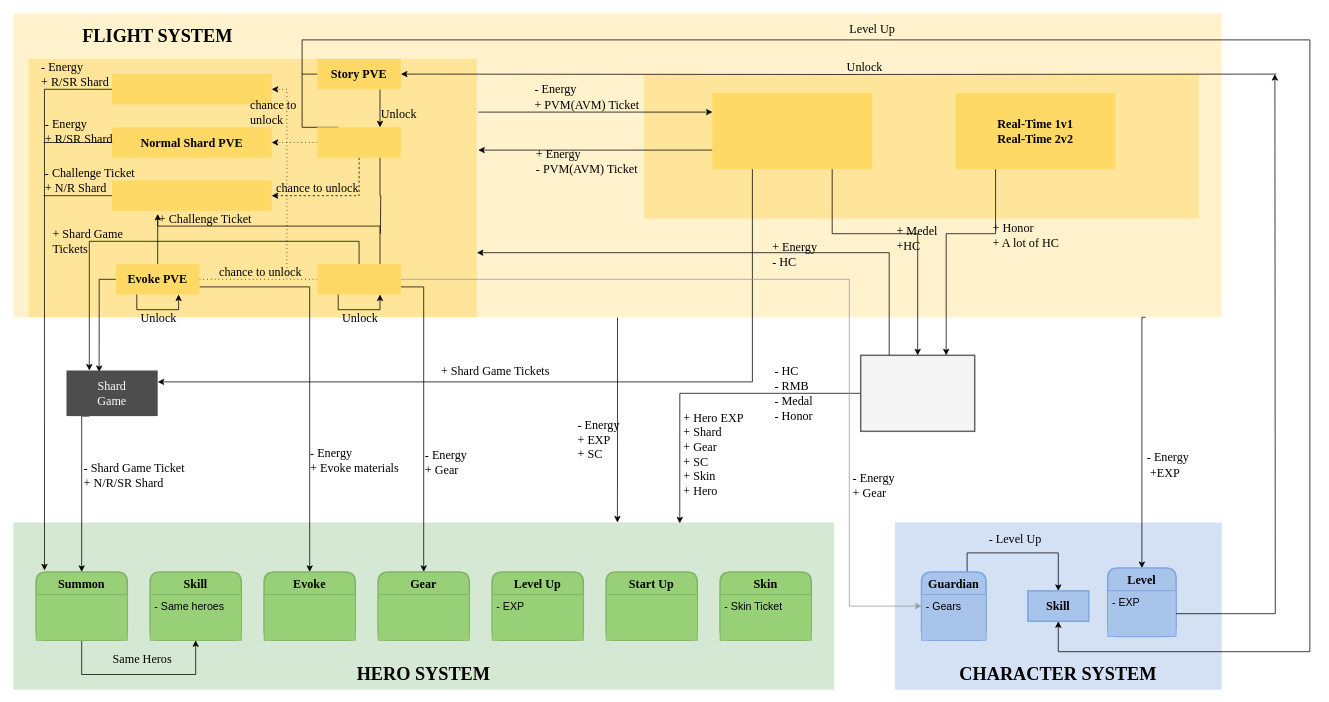
This 1329x702 diagram has some shape labels left out. Here are the shapes that lost their labels. From the top down, the centre of each, then its label:
the point at 191,89: Special Shard PVE
the point at 359,142: Explore PVE
the point at 792,131: PVP Mirror AVA Mirror
the point at 191,195: Challenge Shard PVE
the point at 359,279: Gear PVE
the point at 917,393: STORE
the point at 81,617: - Shards
the point at 309,617: - Evoke Materials - SC
the point at 423,617: - Gears - A lot of SC
the point at 651,617: - A lot SC - Same Star Heroes
